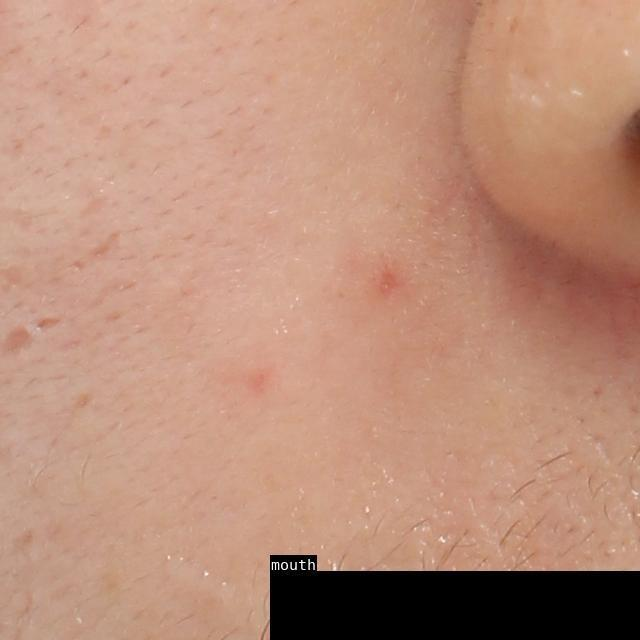atrophic_scar: (86, 227, 121, 264), (36, 316, 62, 335)
